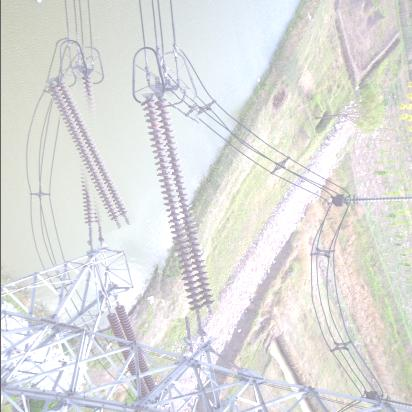insulator: (146, 90, 213, 319), (59, 70, 123, 235)
